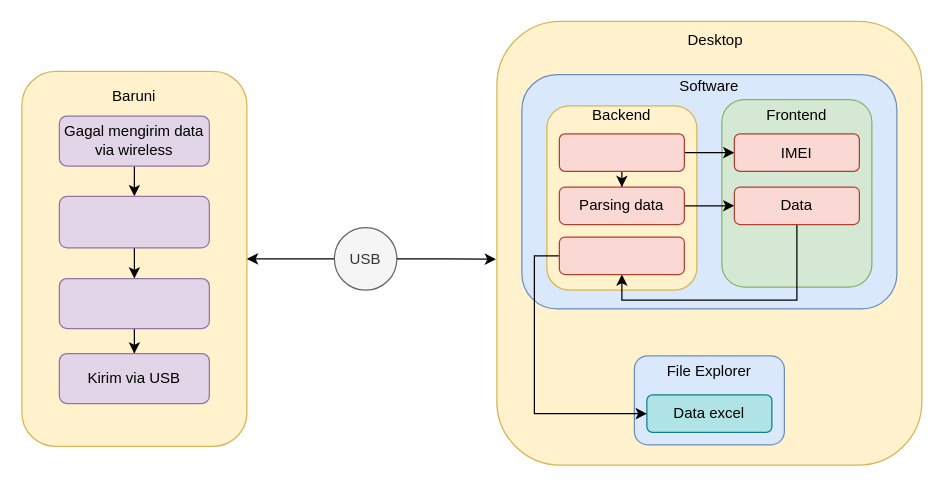
The diagram is 944 pixels wide and 488 high, and some of its shapes have lost their labels. Here are the shapes that lost their labels. From the top down, the box of each, then its label:
(558, 133, 684, 171): Terhubung Baruni
(58, 195, 209, 248): Data disimpan di record
(558, 236, 684, 274): Convert data
(58, 277, 209, 328): Konversi ke format JSON
